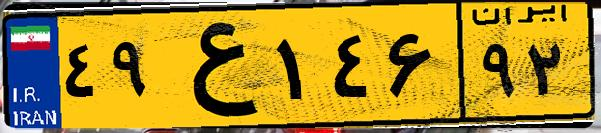1: (270, 28, 330, 110)
2: (525, 38, 570, 115)
4: (330, 28, 385, 110), (57, 26, 110, 100)
6: (385, 28, 445, 110)
9: (475, 38, 525, 113), (110, 28, 158, 98)
ع: (158, 12, 270, 120)
